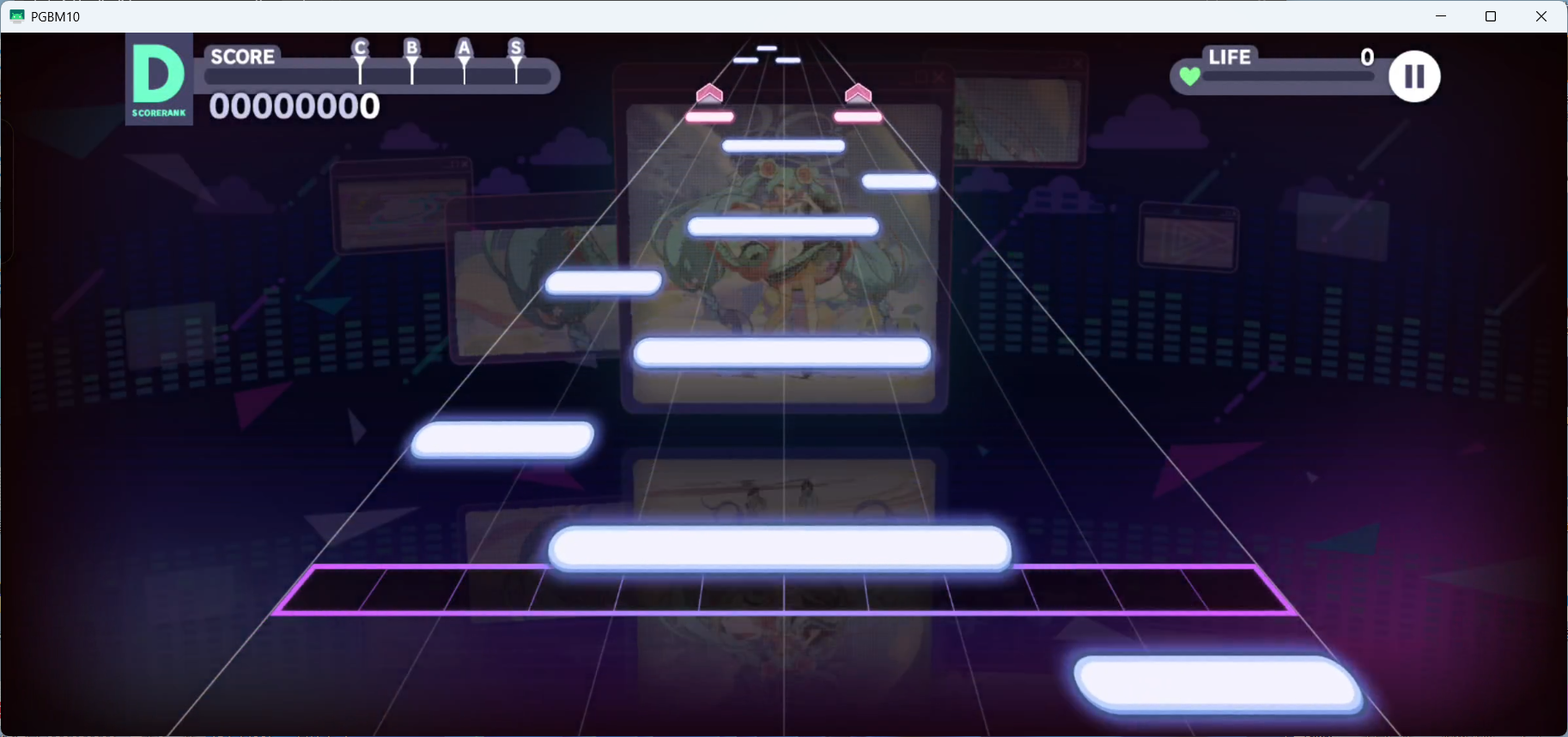flick: (845, 82, 872, 108), (696, 82, 723, 106)
tap: (547, 525, 1011, 572), (1073, 654, 1365, 714), (634, 337, 932, 368), (410, 420, 594, 460), (687, 216, 880, 238), (544, 269, 662, 296), (722, 139, 845, 153), (860, 173, 937, 190), (834, 112, 882, 123), (685, 112, 733, 122), (732, 57, 759, 63), (775, 57, 800, 63), (756, 45, 777, 51)
